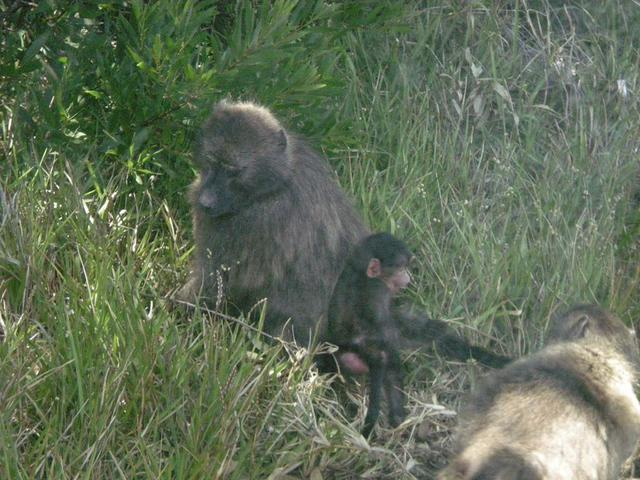monkey: (122, 67, 425, 372)
